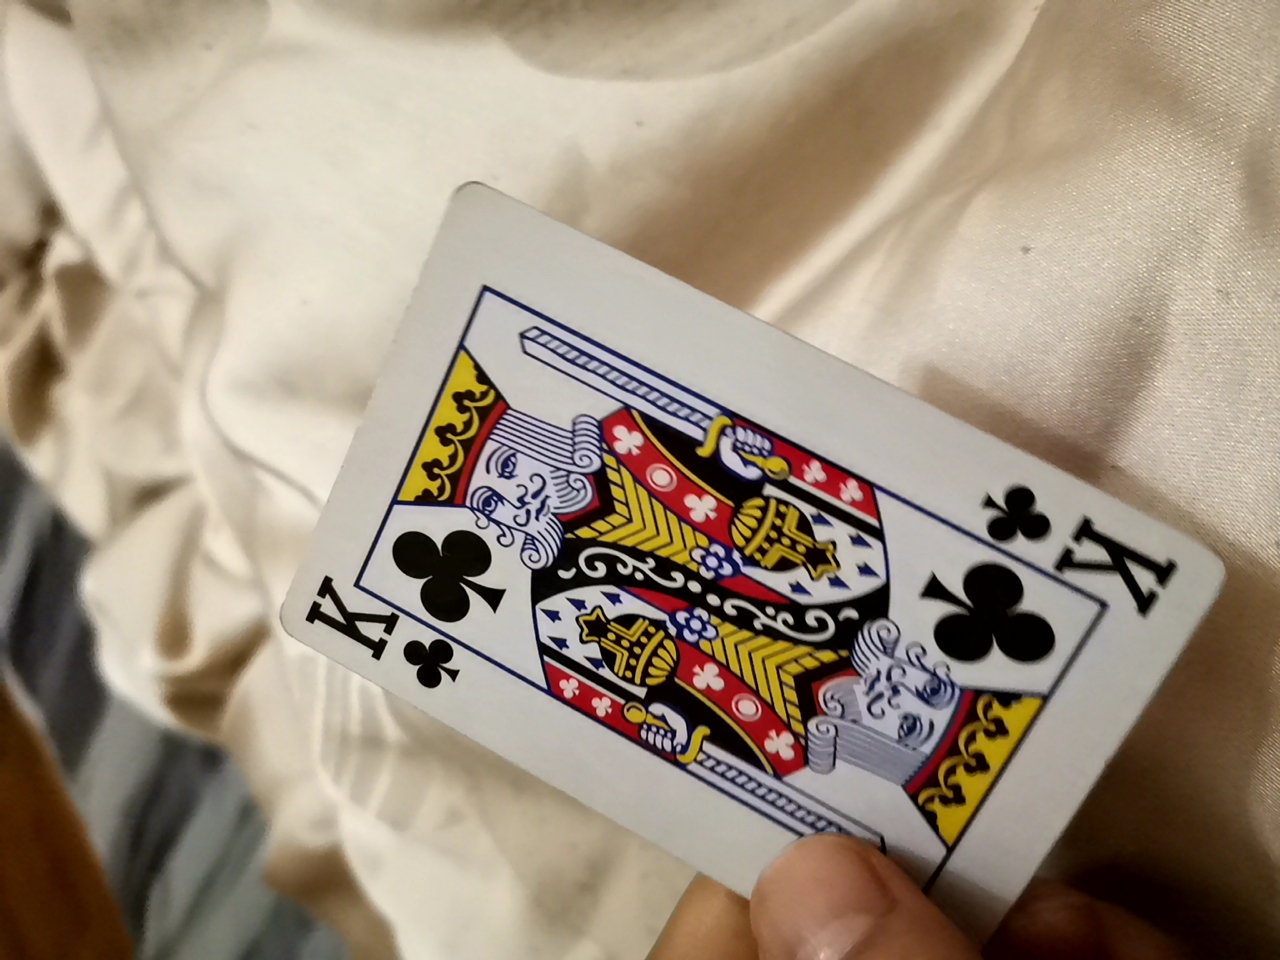mh k: (258, 203, 1214, 920)
